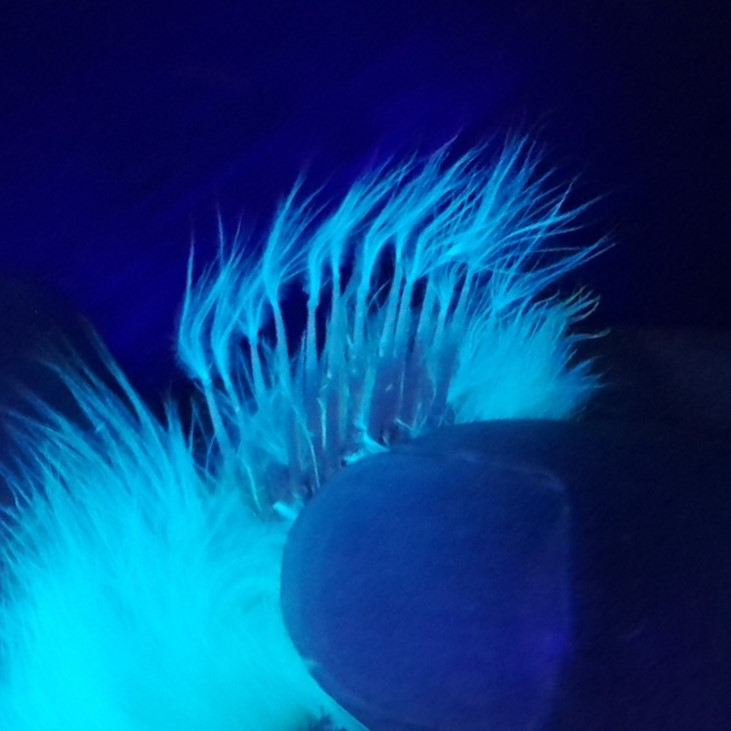male: (178, 249, 507, 522)
